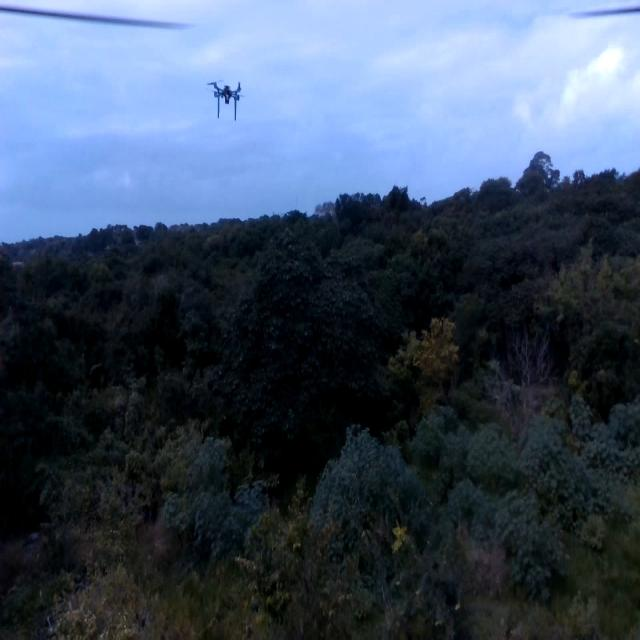-uav-: (204, 62, 248, 130)
